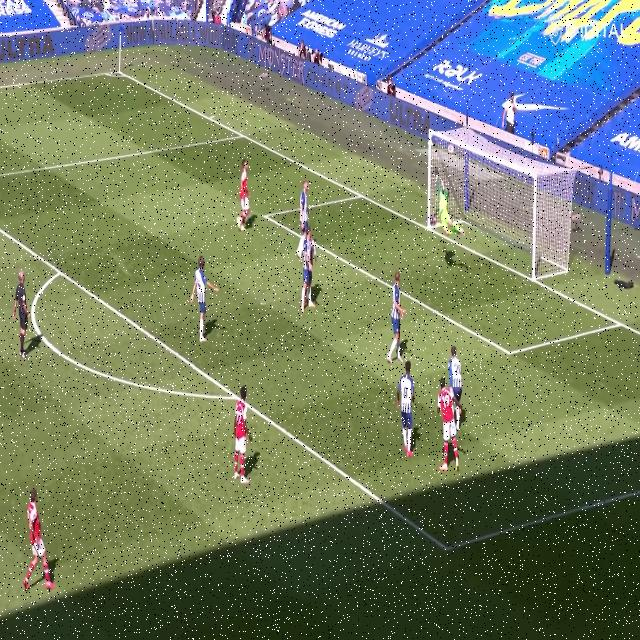Ball: (444, 143, 457, 159)
GoalKeeper: (432, 168, 465, 248)
TEAM 1: (20, 483, 57, 594), (436, 374, 466, 480), (230, 381, 253, 492), (234, 159, 259, 234)
TEAM 2: (184, 245, 226, 352), (394, 356, 419, 467), (299, 225, 325, 318), (388, 268, 407, 362), (447, 342, 468, 399), (295, 176, 316, 229)
